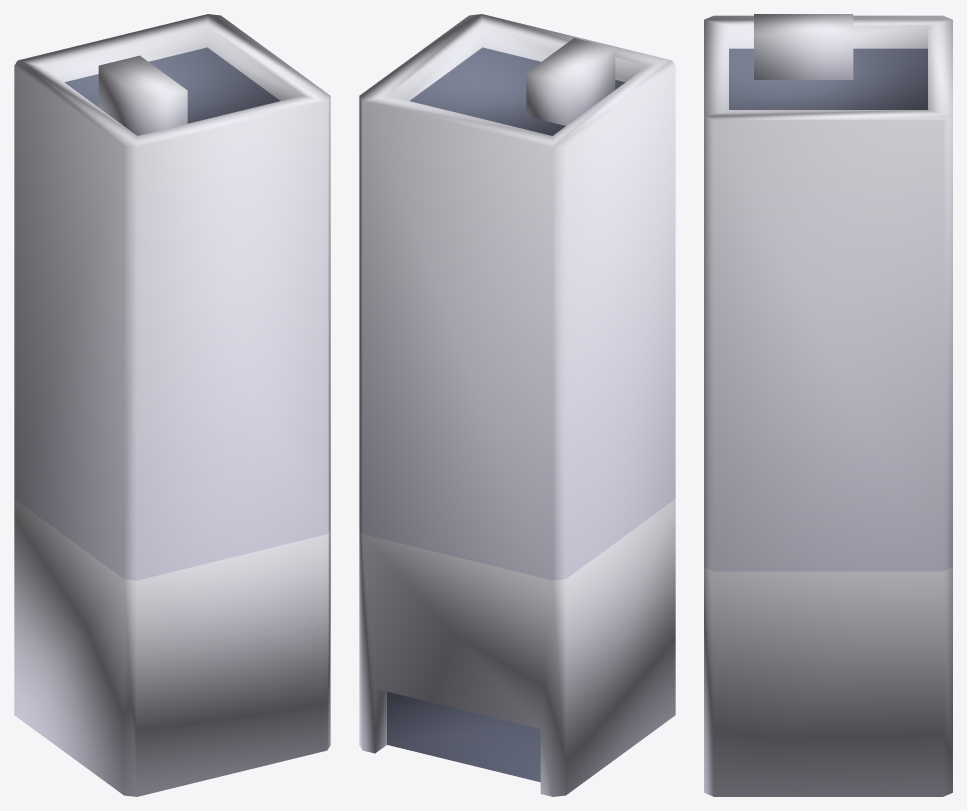
Rendered from low-detail-building-k_lev1.glb.
3 renders of one model, left to right at view 1: azimuth 30°, elevation 25°; view 2: azimuth 150°, elevation 25°; view 3: azimuth 270°, elevation 25°, orthographic. The views are drawn at different scales.
Parts seen in each view (by area): view 1: low-detail-building-k_lev1; view 2: low-detail-building-k_lev1; view 3: low-detail-building-k_lev1.
Boxes of the visible parts, x1,y1,x2,y2 form: low-detail-building-k_lev1: (14,14,330,796); low-detail-building-k_lev1: (359,14,675,796); low-detail-building-k_lev1: (704,14,952,796).
Size of the model in its own units: 0.5 by 1.55 by 0.5.
1 material, 1 textured.
